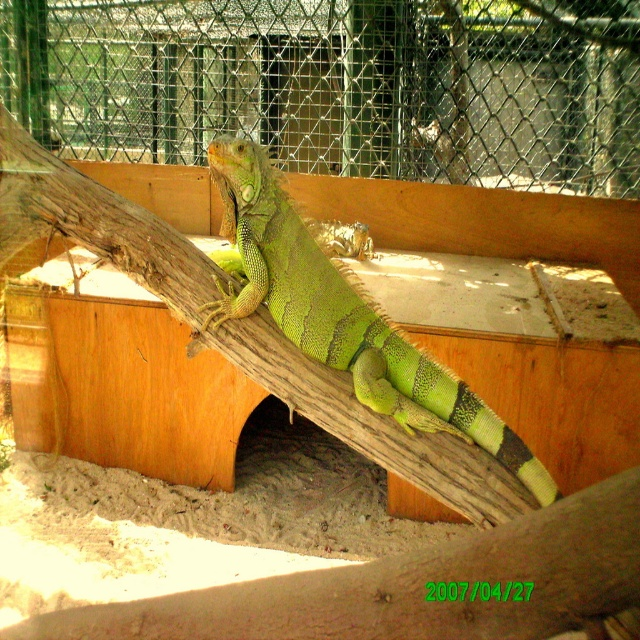Lizard: (195, 132, 564, 512)
